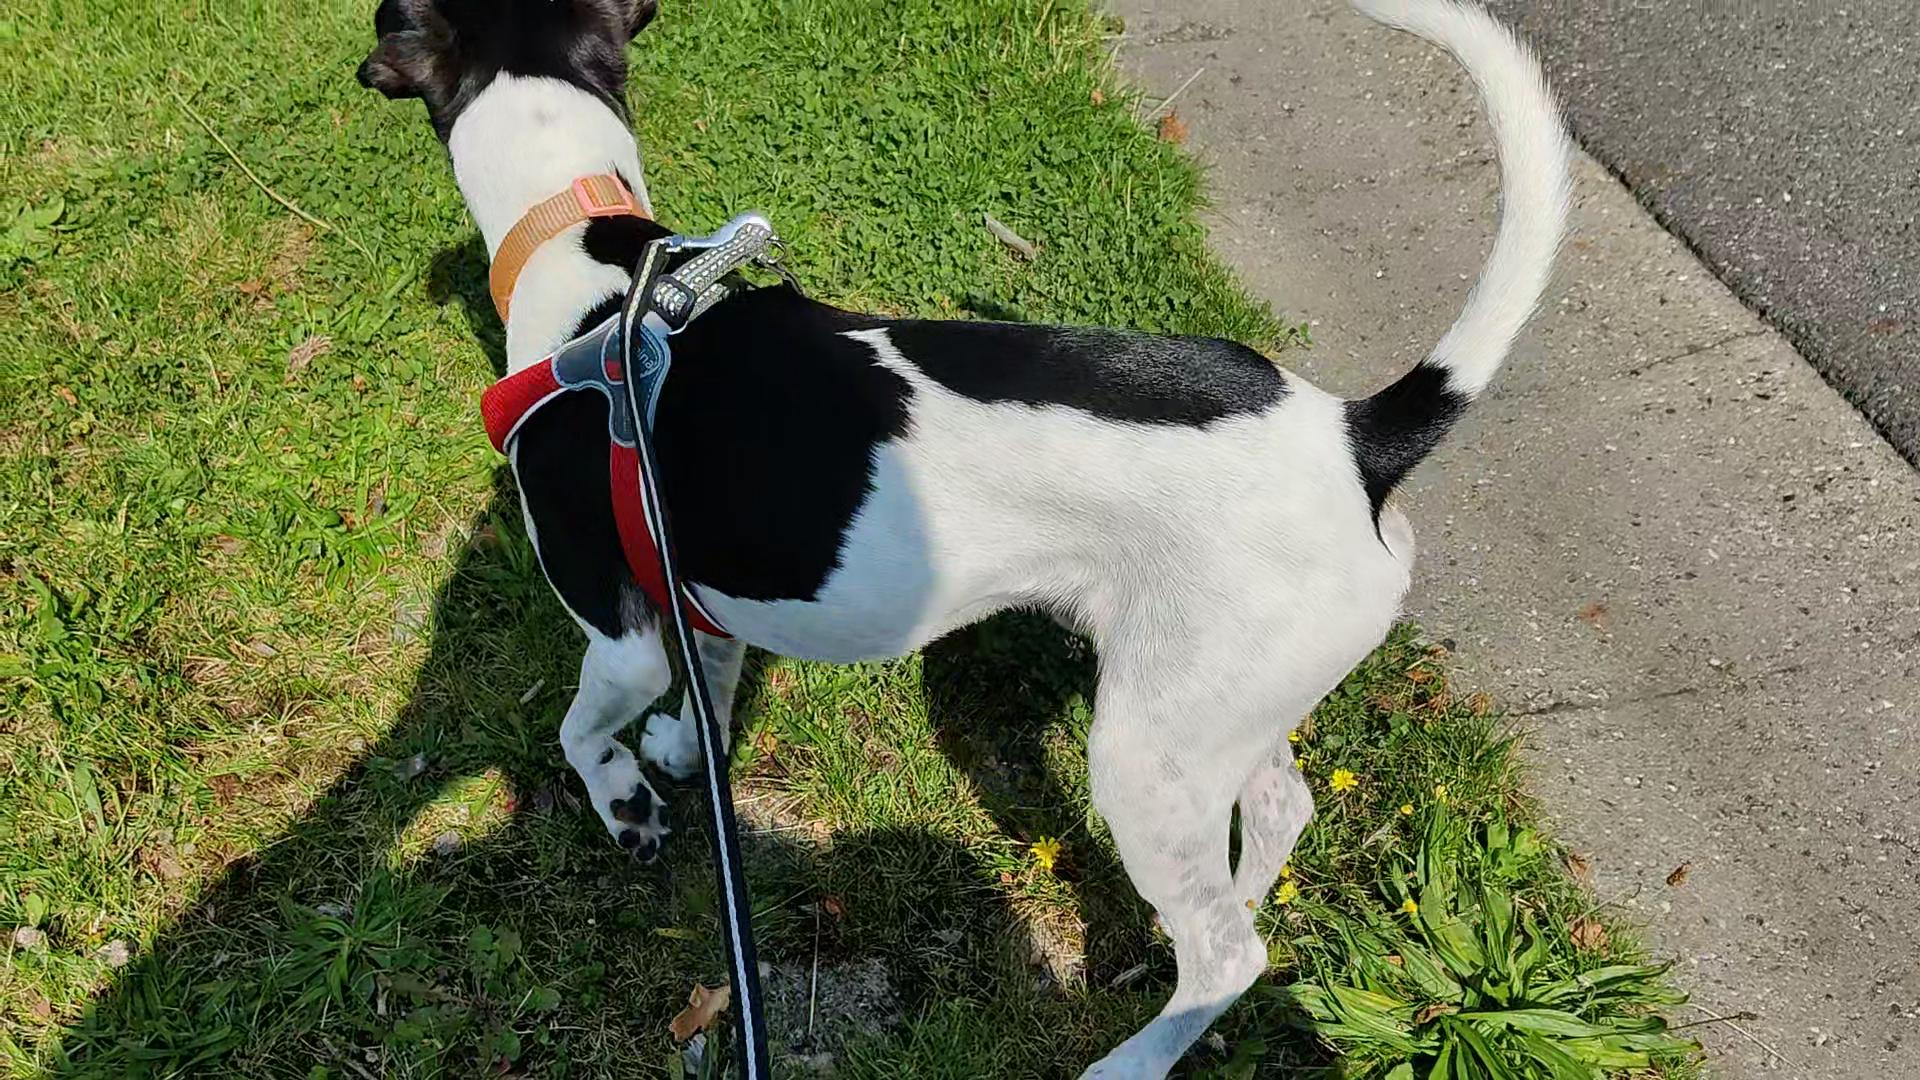Dog: (348, 0, 1578, 1079)
